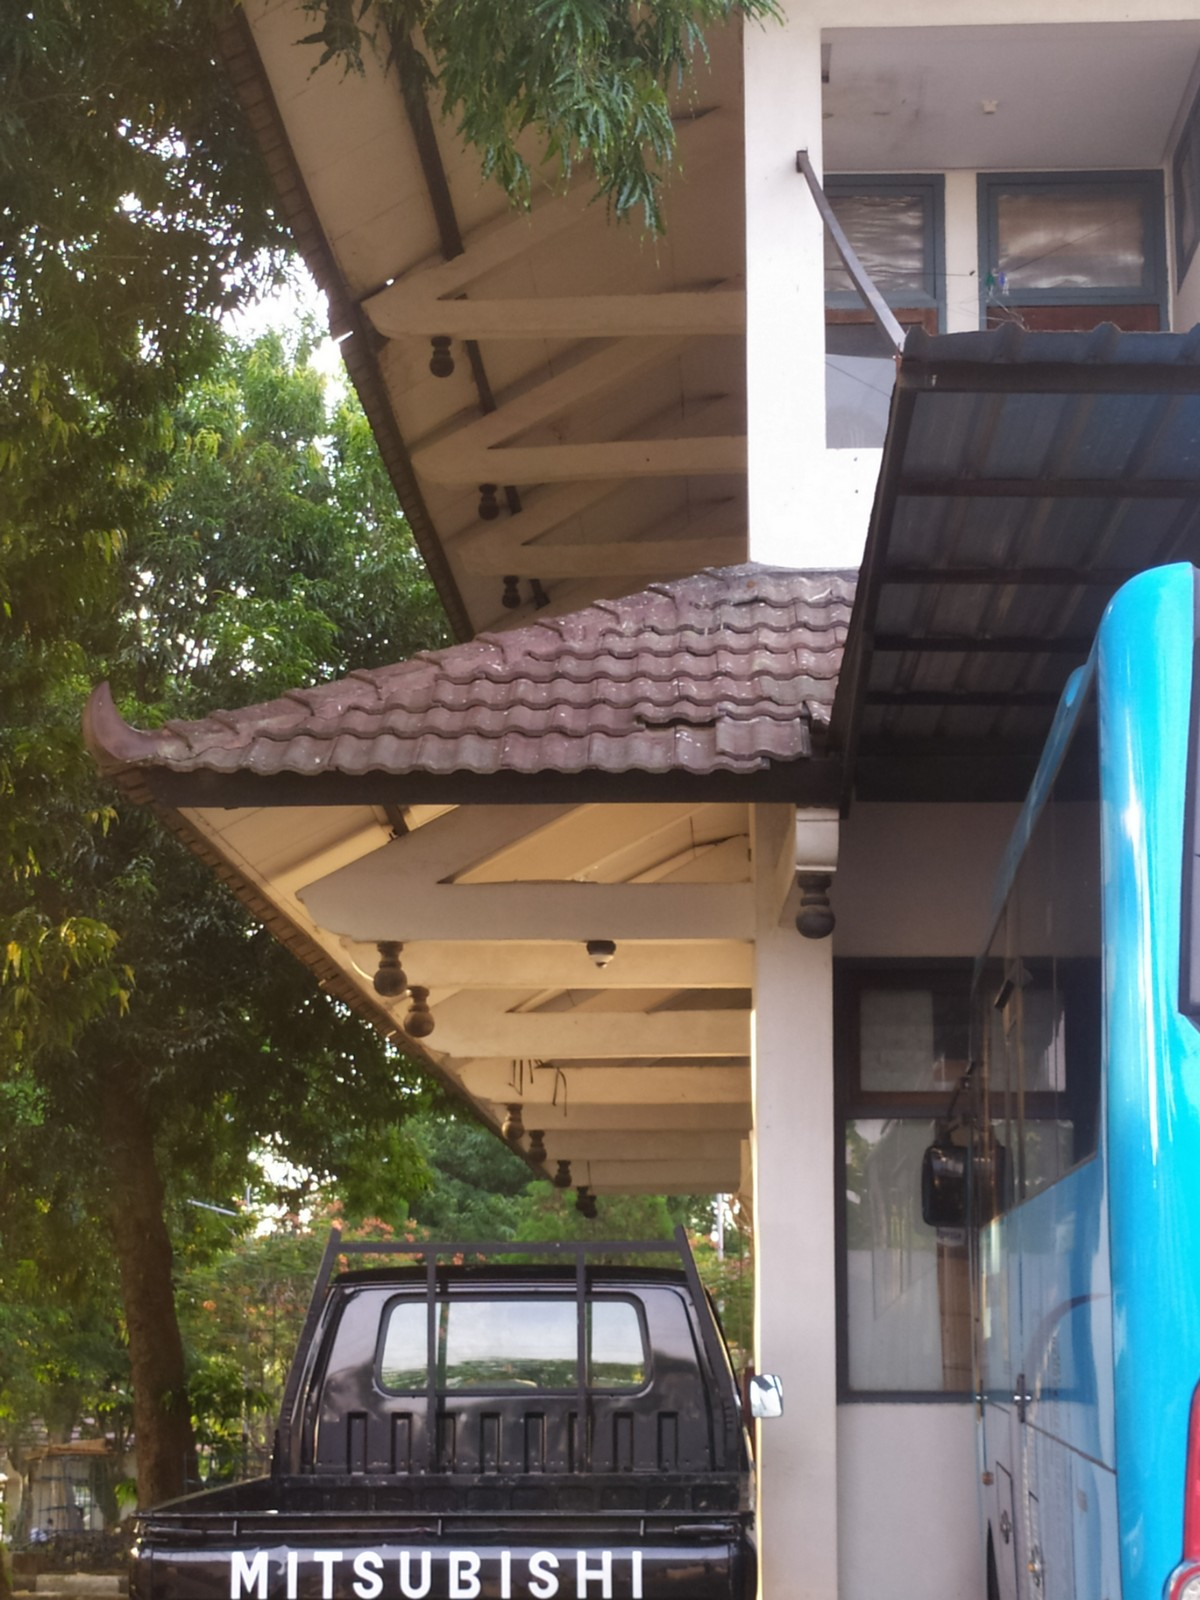concrete beam: (439, 876, 773, 952), (408, 289, 751, 351), (492, 1008, 756, 1065), (489, 432, 751, 486), (499, 1060, 761, 1112), (521, 532, 751, 585)
concrete column: (742, 820, 853, 1587)
